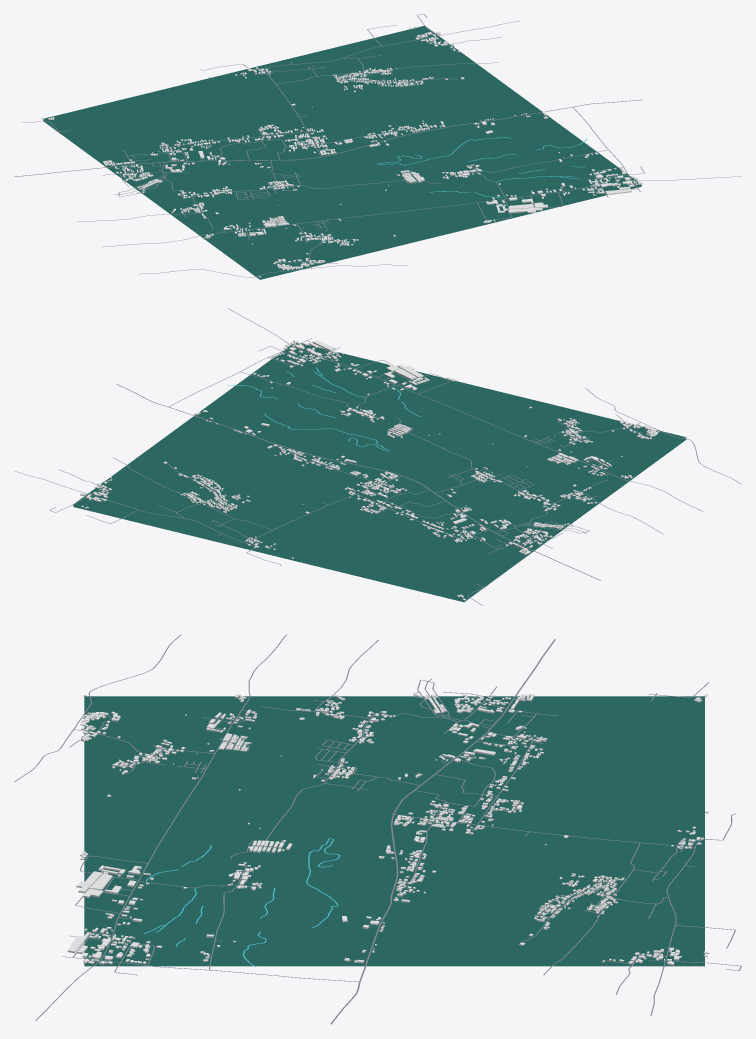
The model's file is kadurama_village.glb.
The picture shows the model from 3 angles, top to bottom: view 1: azimuth 30°, elevation 25°; view 2: azimuth 150°, elevation 25°; view 3: azimuth 270°, elevation 25°; orthographic projection. The views are drawn at different scales.
Parts seen in each view (by area): view 1: Desa_Kadurama_Terrain_Pedestal, Desa_Kadurama_Buildings, Desa_Kadurama_Roads, Desa_Kadurama_Waterways; view 2: Desa_Kadurama_Terrain_Pedestal, Desa_Kadurama_Buildings, Desa_Kadurama_Roads, Desa_Kadurama_Waterways; view 3: Desa_Kadurama_Terrain_Pedestal, Desa_Kadurama_Buildings, Desa_Kadurama_Roads, Desa_Kadurama_Waterways.
Boxes of the visible parts, x1,y1,x2,y2 form: Desa_Kadurama_Terrain_Pedestal: (43,25,641,279); Desa_Kadurama_Buildings: (41,26,642,277); Desa_Kadurama_Roads: (14,14,741,277); Desa_Kadurama_Waterways: (377,137,587,197); Desa_Kadurama_Terrain_Pedestal: (73,343,686,602); Desa_Kadurama_Buildings: (80,340,687,600); Desa_Kadurama_Roads: (14,308,741,605); Desa_Kadurama_Waterways: (227,367,421,451); Desa_Kadurama_Terrain_Pedestal: (84,696,704,966); Desa_Kadurama_Buildings: (67,694,709,965); Desa_Kadurama_Roads: (14,634,741,1024); Desa_Kadurama_Waterways: (144,838,340,966).
Size of the model in its own units: 3475 by 21.5 by 2741.
